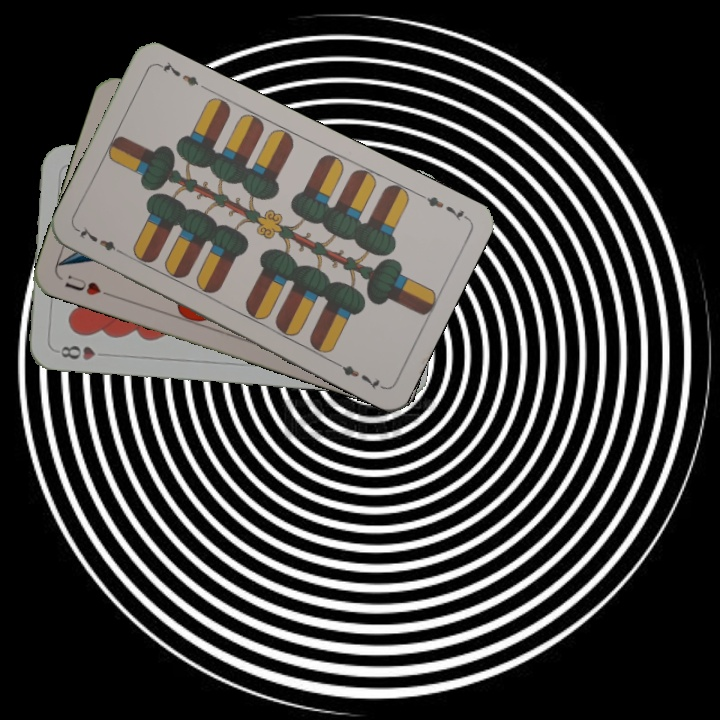E7: (73, 222, 128, 257), (415, 189, 470, 224)
H8: (56, 341, 111, 363)
HU: (60, 271, 115, 300)
